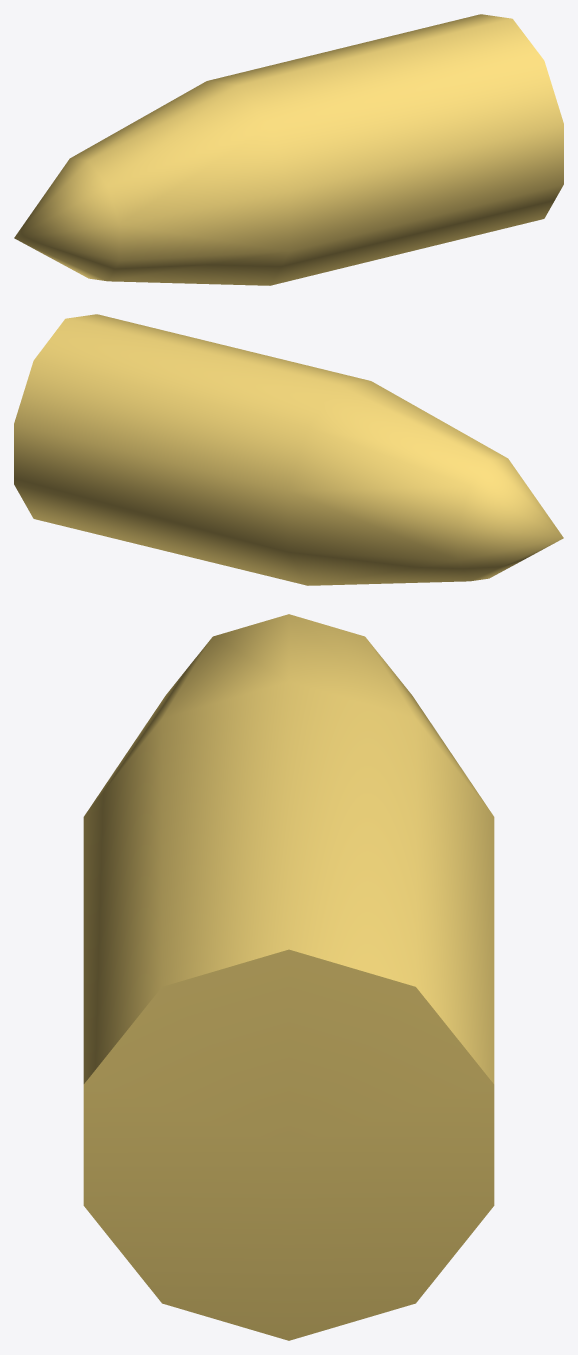
File: SniperRifle.fbx
3 views of the same model, one above another, from view 1: azimuth 30°, elevation 25°; view 2: azimuth 150°, elevation 25°; view 3: azimuth 270°, elevation 25° (orthographic). The views are drawn at different scales.
Visible parts, largest first — view 1: bullet_big; view 2: bullet_big; view 3: bullet_big.
Part boxes in pixels (x1,y1,x2,y2): bullet_big: (14, 14, 563, 285); bullet_big: (14, 314, 563, 585); bullet_big: (83, 614, 494, 1340).
Size of the model in its own units: 0.32 by 0.12 by 0.1141.
